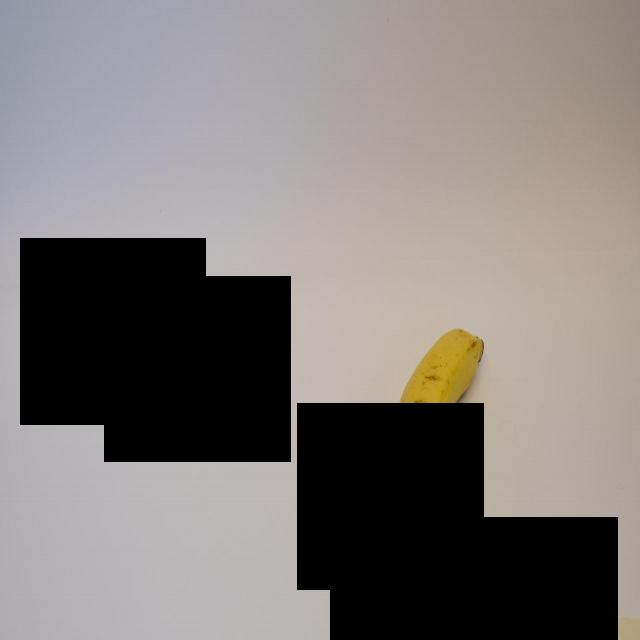banana: (390, 308, 492, 582)
